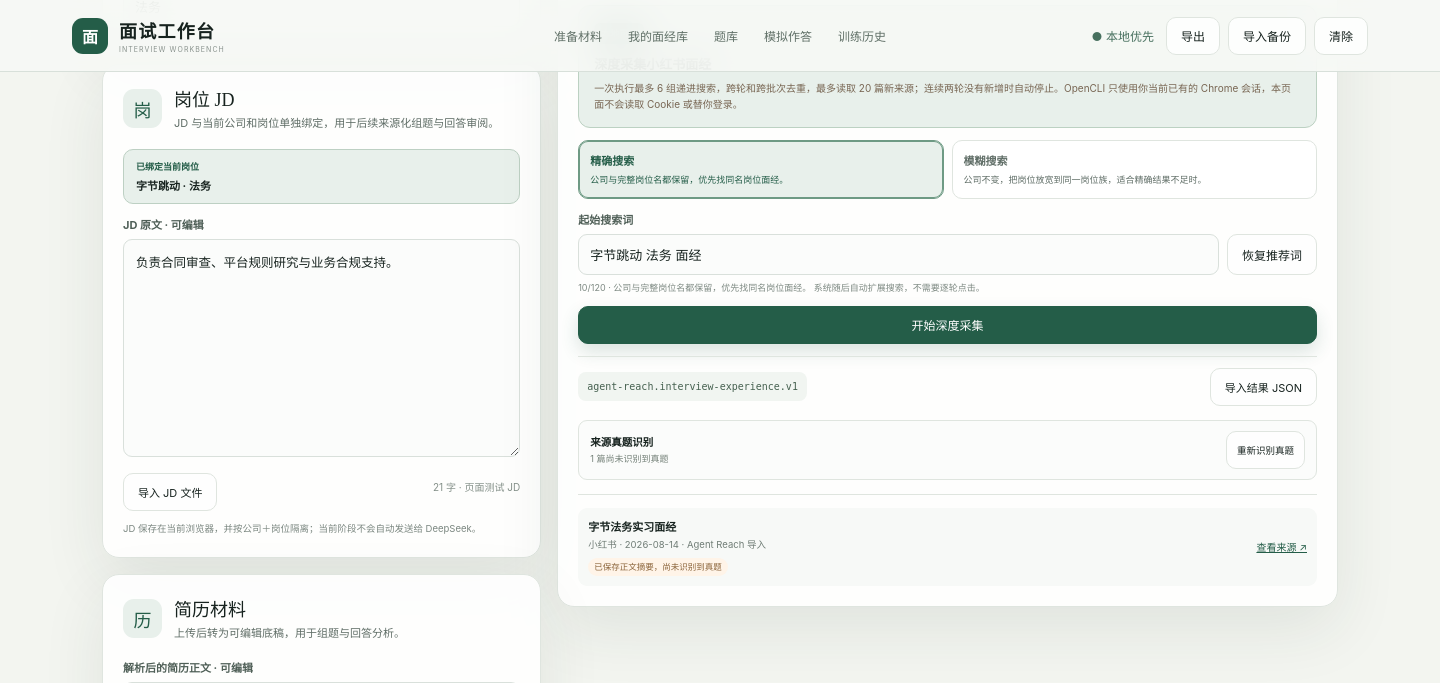
Test: 面试工作台页面核心流程 › 摘要仍不足时由用户触发原文重读并升级零题来源
(page scrolled)
Expected: the text "已保存正文摘要，尚未识别到真题" is shown, [588,558,728,576]
Click the button "重新识别真题" at (1266, 450), box [1226,431,1305,469]
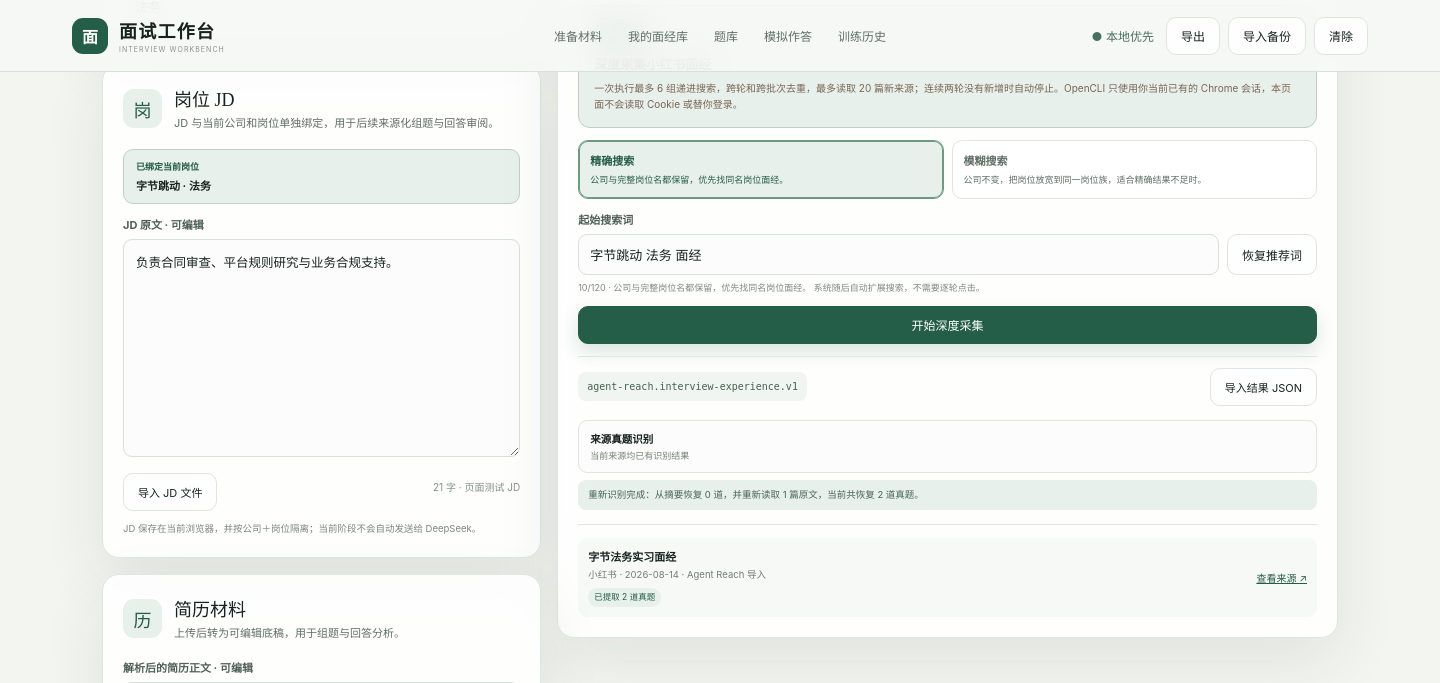
Expected: the text "已提取 2 道真题" is shown, [588,588,661,607]
Expected: the text "重新识别完成：从摘要恢复 0 道，并重新读取 1 篇原文，当前共恢复 2 道真题。" is shown, [578,480,1317,510]
